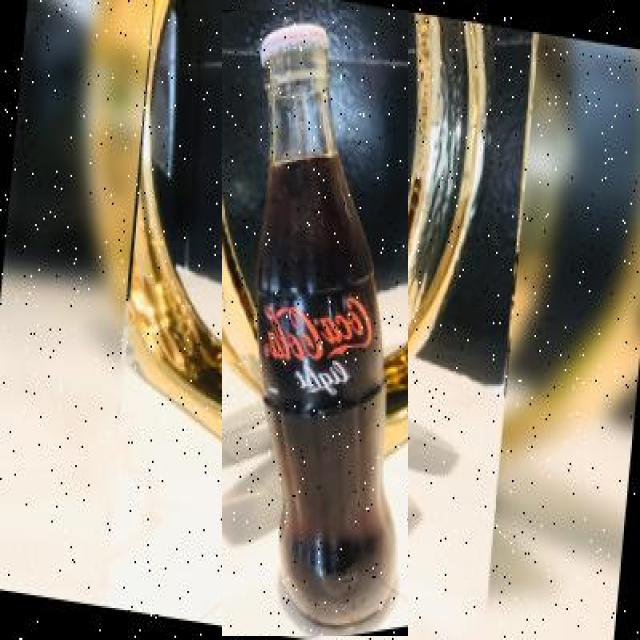coca-cola: (222, 10, 408, 636)
